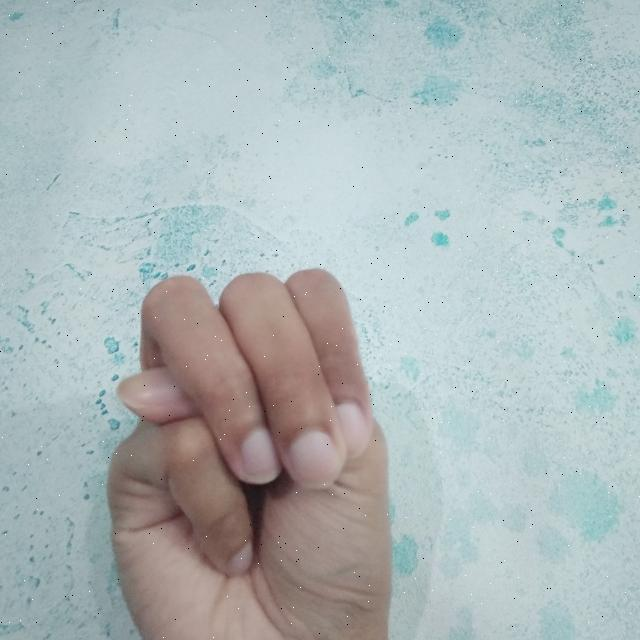M: (97, 259, 406, 640)
